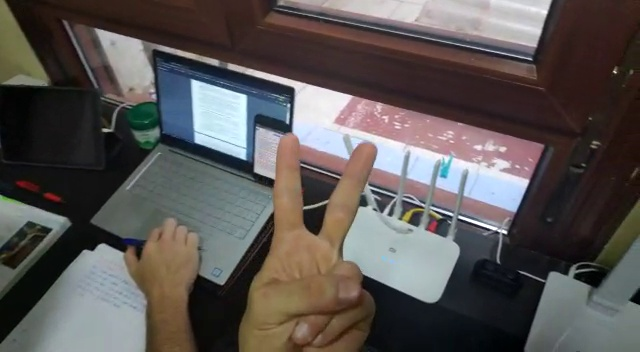Peace: (243, 129, 377, 350)
